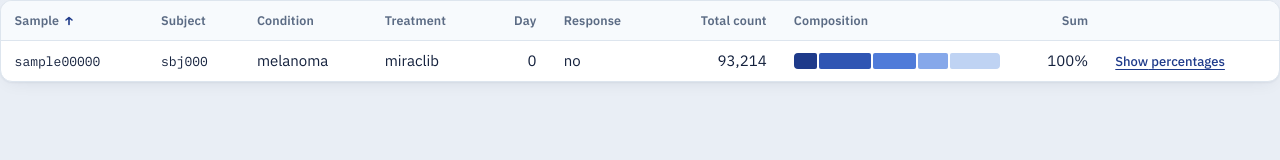
Test: SamplesTable › renders a composition bar and expandable percentages for each sample
Check: the picture named "Composition:" is shown, box [794,53,1000,69]
What coordinates should you click on to do the following:
click the button "Show percentages"
I would click on:
 (1170, 62)
Its box is [1115,52,1225,72].
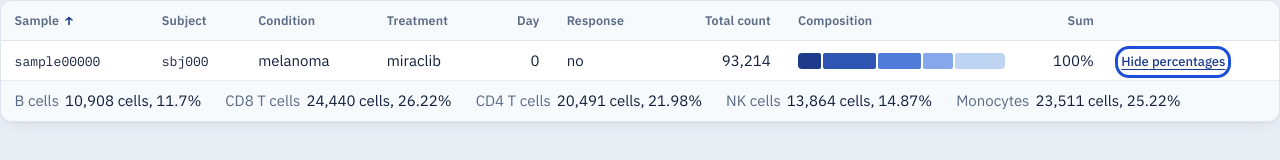
Check: the button "Hide percentages" is shown, box [1121,52,1226,72]
Check: the text "B cells" is shown, box [15,89,59,113]
